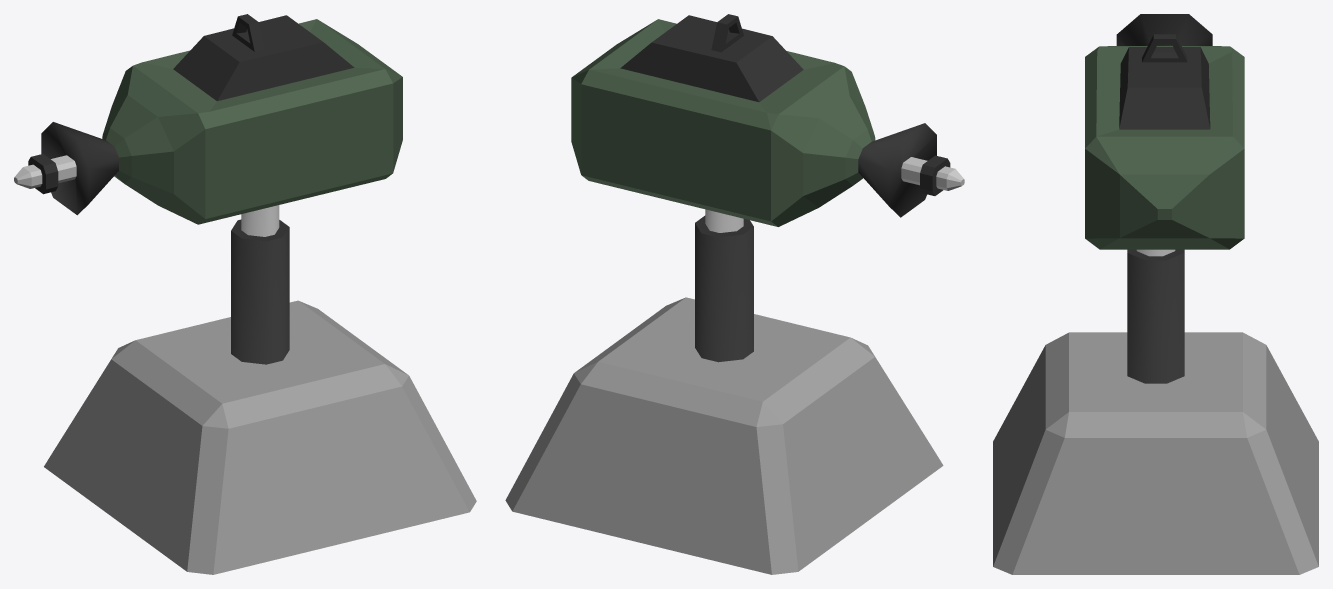
File: turret.fbx
The picture shows the model from 3 angles, left to right: view 1: azimuth 30°, elevation 25°; view 2: azimuth 150°, elevation 25°; view 3: azimuth 270°, elevation 25°; orthographic projection.
Parts seen in each view (by area): view 1: Cube, Cube.001; view 2: Cube, Cube.001; view 3: Cube, Cube.001.
Boxes of the visible parts, x1,y1,x2,y2 form: Cube: (44,205,476,574); Cube.001: (14,14,402,224); Cube: (505,209,943,574); Cube.001: (571,14,964,226); Cube: (993,249,1318,574); Cube.001: (1085,14,1244,249).
Bounding box in the file's own units: 393 × 452 × 288.
